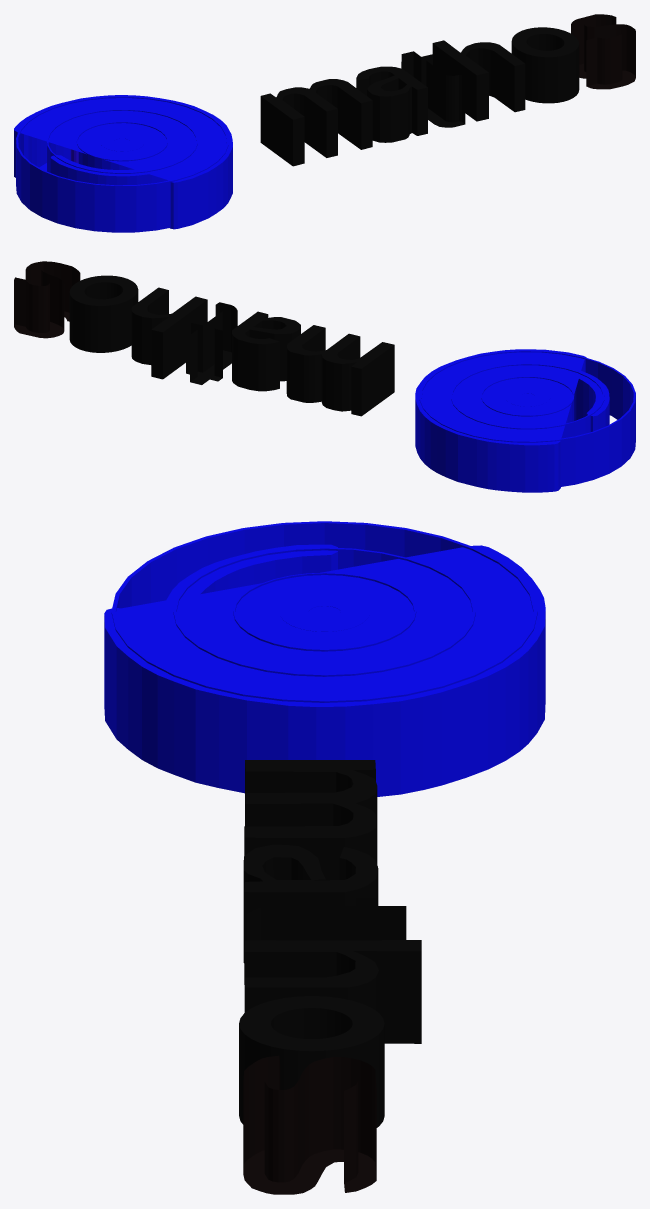
3 views of the same model, one above another, from view 1: azimuth 30°, elevation 25°; view 2: azimuth 150°, elevation 25°; view 3: azimuth 270°, elevation 25° (orthographic). The views are drawn at different scales.
Parts seen in each view (by area): view 1: Cube.002, Cylinder, Cube.003, Cube.006, Cylinder.004, Cube.004, Cube.007, Cube.005, Cube.001, Cylinder.001, Cylinder.002, Cylinder.003; view 2: Cube.002, Cube.003, Cylinder, Cylinder.004, Cube.006, Cube.004, Cube.007, Cube.005, Cube.001, Cylinder.001, Cylinder.003, Cylinder.002; view 3: Cube.002, Cube.007, Cube.006, Cube.003, Cylinder, Cylinder.004, Cube.004, Cube.005, Cube.001, Cylinder.001, Cylinder.003, Cylinder.002.
Part boxes in pixels (x1,y1,x2,y2): Cube.002: (14, 95, 232, 229); Cylinder: (16, 96, 228, 232); Cube.003: (260, 79, 372, 166); Cube.006: (432, 40, 525, 121); Cylinder.004: (511, 27, 579, 103); Cube.004: (356, 66, 427, 142); Cube.007: (571, 14, 635, 89); Cube.005: (401, 51, 465, 127); Cube.001: (50, 155, 167, 185); Cylinder.001: (47, 109, 197, 173); Cylinder.002: (76, 122, 167, 169); Cylinder.003: (100, 132, 144, 151); Cube.002: (415, 349, 586, 492); Cube.003: (286, 325, 394, 416); Cylinder: (419, 350, 635, 486); Cylinder.004: (69, 275, 138, 352); Cube.006: (131, 287, 207, 379); Cube.004: (232, 311, 300, 391); Cube.007: (14, 261, 80, 338); Cube.005: (186, 302, 237, 384); Cube.001: (574, 371, 609, 431); Cylinder.001: (451, 363, 604, 438); Cylinder.003: (505, 387, 550, 406); Cylinder.002: (481, 376, 574, 423); Cube.002: (104, 545, 545, 796); Cube.007: (243, 1055, 376, 1194); Cube.006: (244, 940, 421, 1043); Cube.003: (244, 760, 377, 880); Cylinder: (111, 521, 537, 702); Cylinder.004: (239, 996, 384, 1127); Cube.004: (243, 844, 378, 984); Cube.005: (244, 898, 406, 945); Cube.001: (166, 544, 337, 600); Cylinder.001: (173, 547, 475, 676); Cylinder.003: (279, 593, 369, 631); Cylinder.002: (233, 572, 416, 651).
Bounding box in the file's own units: 1226 × 93.8 × 395.
